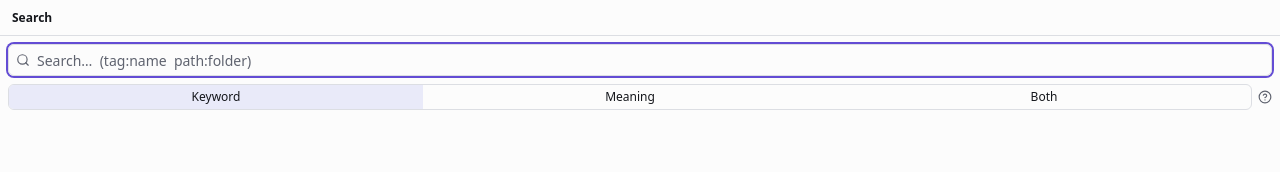
Test: SearchPanel › tag and path filters always use keyword search, whatever the mode
The width and height of the screenshot is (1280, 172).
Click the radio button labelled "Meaning".
click(630, 97)  # box [423,85,837,109]
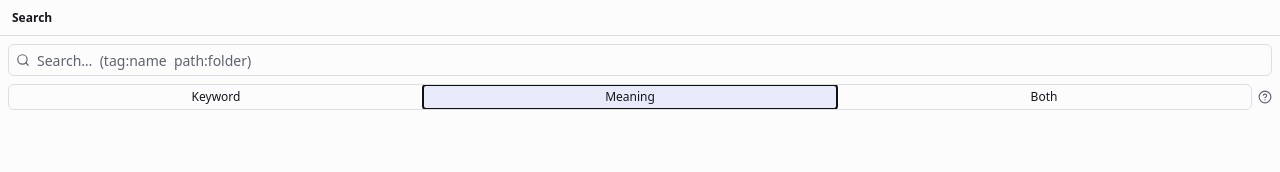
Type "tag:security" into the field named "Search notes".
click(640, 60); type("tag:security")  # box [8,44,1272,76]
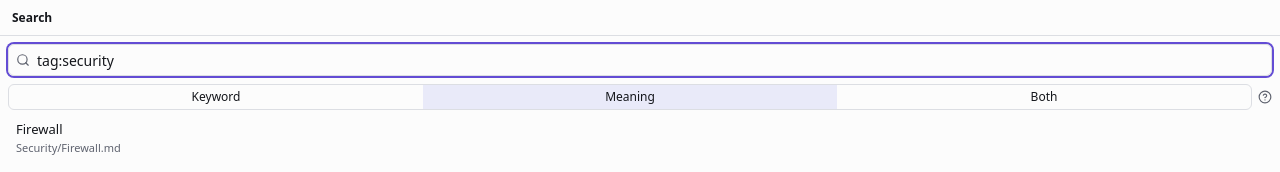
Expected: the text "Firewall" is shown, [16,120,62,138]
